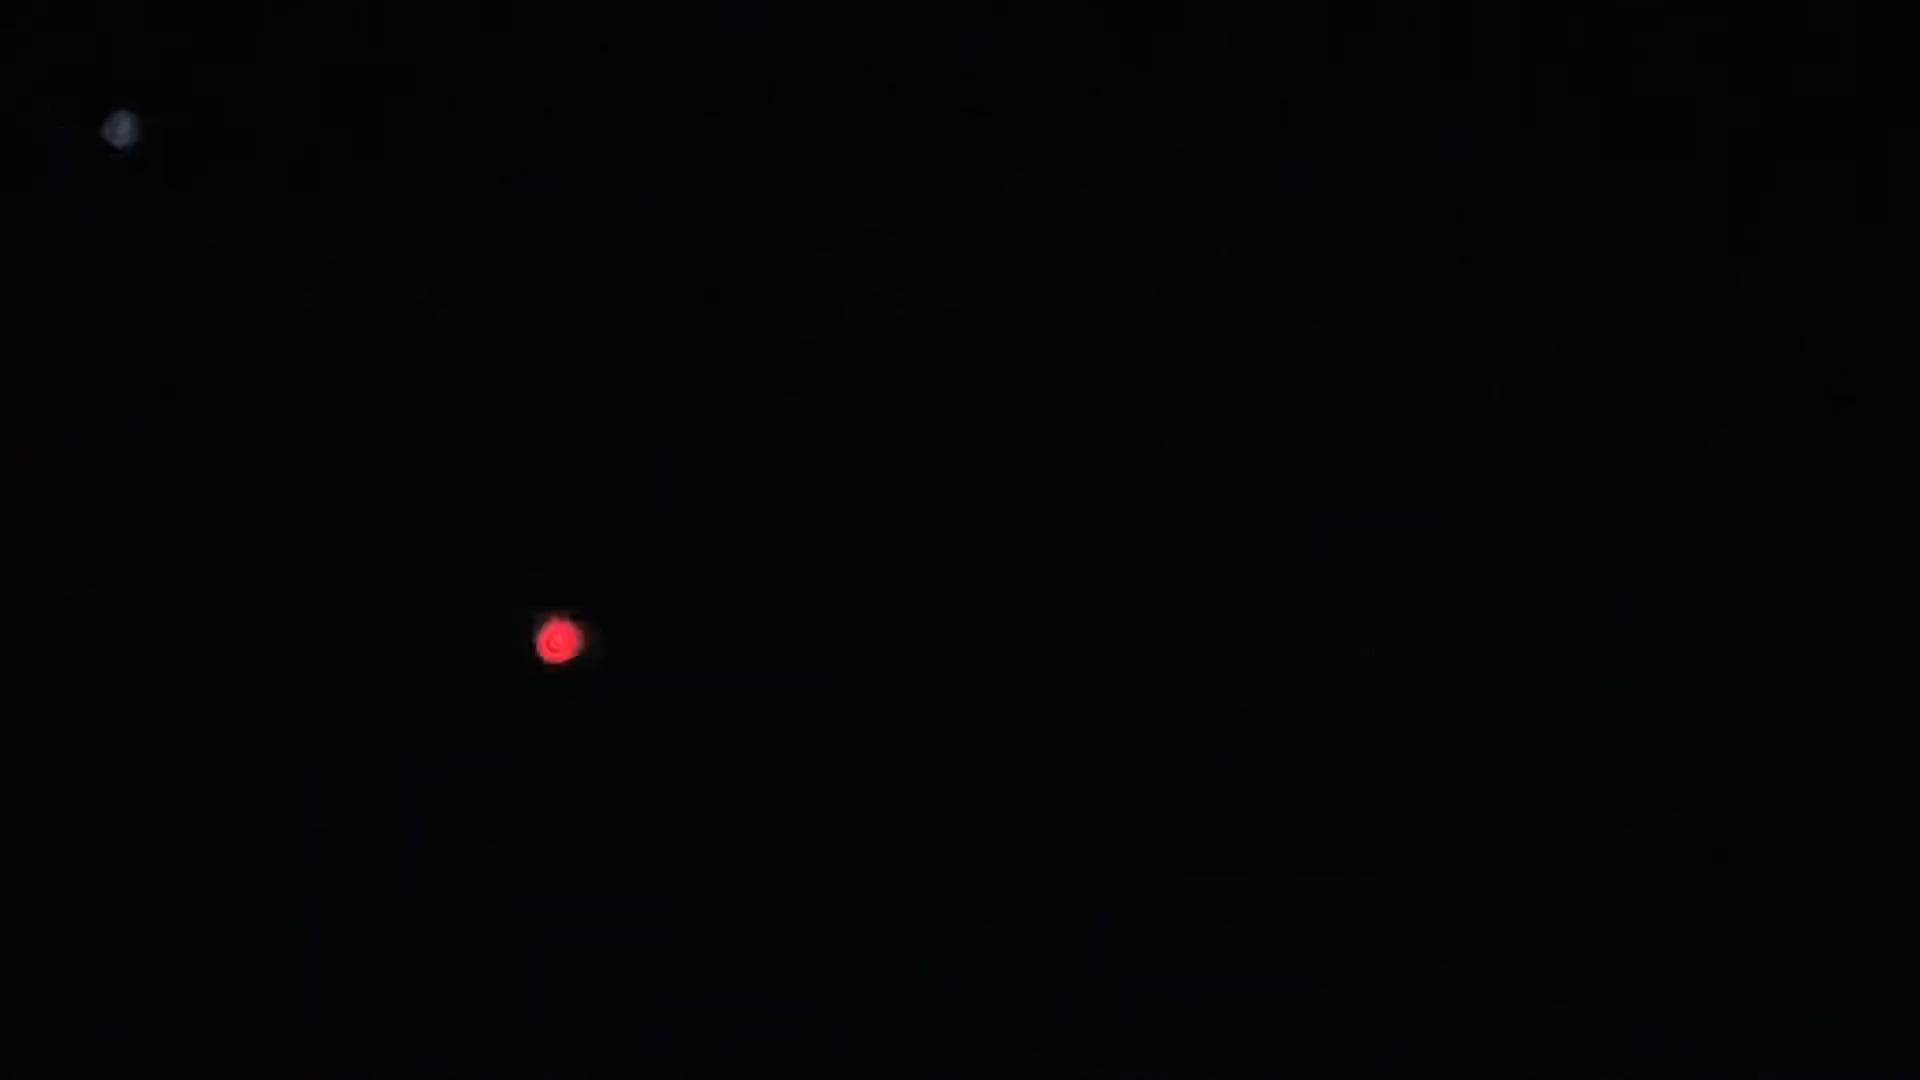Plane: (493, 582, 630, 719)
